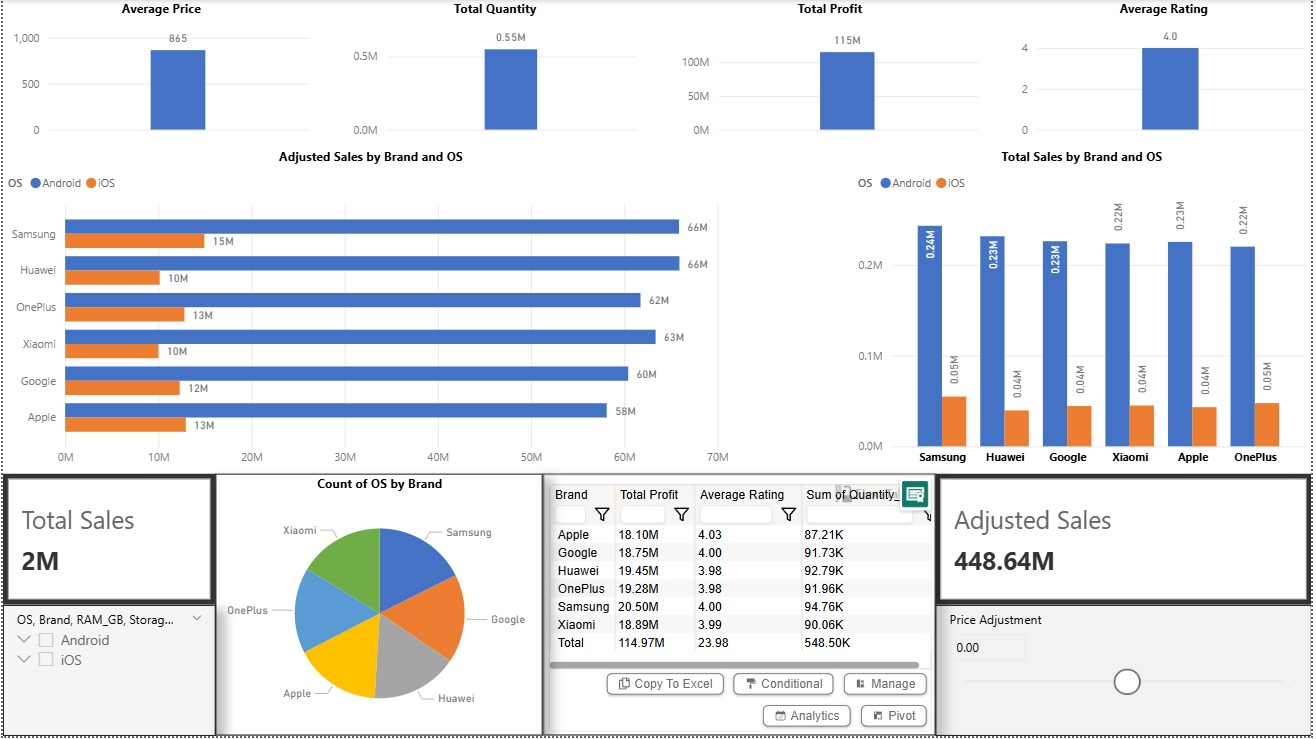

What the dashboard file says about the page in this screenshot:
{"tool":"powerbi","page":{"name":"Page 1","canvas":[1280,720],"ordinal":0},"visuals":[{"type":"cardVisual","fields":{"Data":["smartphone_sales_dataset.Total Sales"]},"box":[0,464,208,128],"z":0},{"type":"clusteredColumnChart","fields":{"Y":["smartphone_sales_dataset.Total Quantity"]},"box":[337.6,0,288,140],"z":1000},{"type":"clusteredColumnChart","fields":{"Y":["smartphone_sales_dataset.Total Profit"]},"box":[658.8,0,300,140],"z":2000},{"type":"clusteredColumnChart","fields":{"Y":["smartphone_sales_dataset.Average Price"]},"box":[4.3,0,300,140],"z":3000},{"type":"clusteredColumnChart","fields":{"Y":["smartphone_sales_dataset.Average Rating"]},"box":[992,0,288,140],"z":4000},{"type":"clusteredColumnChart","fields":{"Category":["smartphone_sales_dataset.Brand"],"Y":["smartphone_sales_dataset.Total Sales"],"Series":["smartphone_sales_dataset.OS"]},"box":[832,144,448,320],"z":5000},{"type":"flexatables","fields":{"rows":["smartphone_sales_dataset.Brand"],"values":["smartphone_sales_dataset.Total Profit","smartphone_sales_dataset.Average Rating","Sum(smartphone_sales_dataset.Quantity_Sold)"]},"box":[528,464,384,256],"z":6000},{"type":"slicer","fields":{"Values":["smartphone_sales_dataset.OS","smartphone_sales_dataset.Brand","smartphone_sales_dataset.RAM_GB","smartphone_sales_dataset.Storage_GB","smartphone_sales_dataset.Rating"]},"box":[0,592,208,128],"z":7000},{"type":"pieChart","fields":{"Category":["smartphone_sales_dataset.Brand"],"Y":["CountNonNull(smartphone_sales_dataset.OS)"]},"box":[208,464,320,256],"z":8000},{"type":"slicer","fields":{"Values":["Price Adjustment.Price Adjustment"]},"box":[912,592,368,128],"z":9000},{"type":"cardVisual","fields":{"Data":["Price Adjustment.Adjusted Sales"]},"box":[912,464,368,128],"z":10000},{"type":"clusteredBarChart","fields":{"Series":["smartphone_sales_dataset.OS"],"Y":["Price Adjustment.Adjusted Sales"],"Category":["smartphone_sales_dataset.Brand"]},"box":[0,144,720,320],"z":11000}]}

Visuals, with their boxes in screenshot pixels (x1, y1, x2, y2), scaled from the page's 1280x720 canvas onto the 1316x739 screenshot:
cardVisual - smartphone_sales_dataset.Total Sales: 0,476,214,608
clusteredColumnChart - smartphone_sales_dataset.Total Quantity: 347,0,643,144
clusteredColumnChart - smartphone_sales_dataset.Total Profit: 677,0,986,144
clusteredColumnChart - smartphone_sales_dataset.Average Price: 4,0,313,144
clusteredColumnChart - smartphone_sales_dataset.Average Rating: 1020,0,1315,144
clusteredColumnChart - smartphone_sales_dataset.Brand x smartphone_sales_dataset.Total Sales: 855,148,1315,476
flexatables - smartphone_sales_dataset.Brand x smartphone_sales_dataset.Total Profit: 543,476,938,738
slicer - smartphone_sales_dataset.OS x smartphone_sales_dataset.Brand: 0,608,214,738
pieChart - smartphone_sales_dataset.Brand x CountNonNull(smartphone_sales_dataset.OS): 214,476,543,738
slicer - Price Adjustment.Price Adjustment: 938,608,1315,738
cardVisual - Price Adjustment.Adjusted Sales: 938,476,1315,608
clusteredBarChart - smartphone_sales_dataset.OS x Price Adjustment.Adjusted Sales: 0,148,740,476
